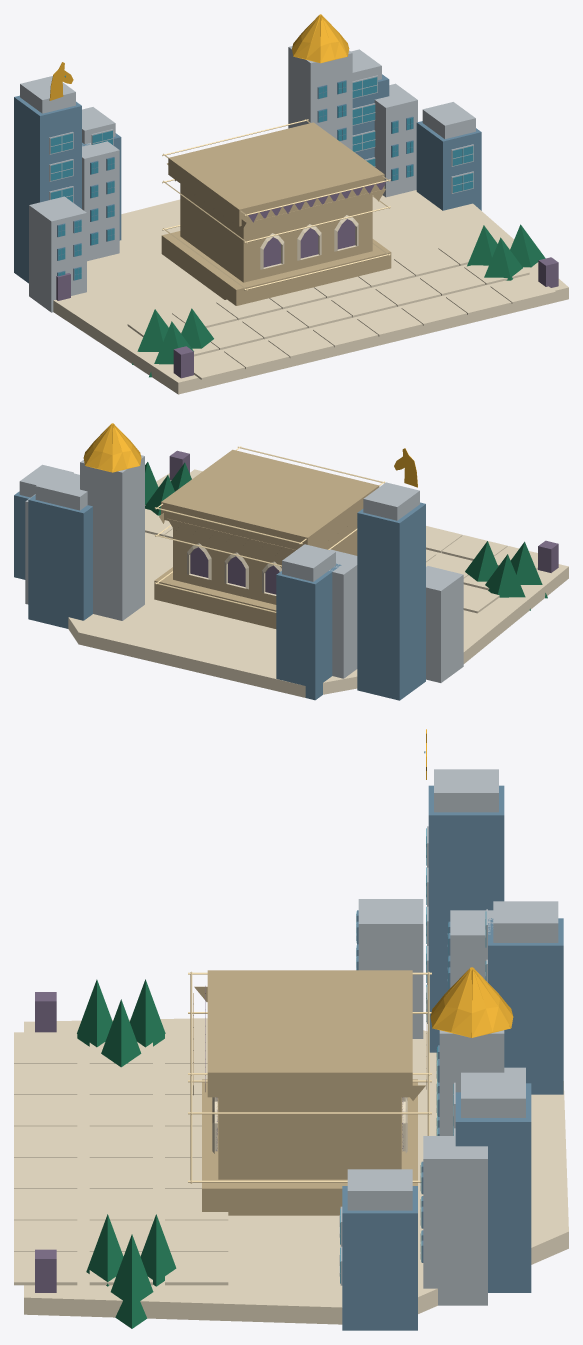
Rendered from decoration.glb.
The picture shows the model from 3 angles, top to bottom: view 1: azimuth 30°, elevation 25°; view 2: azimuth 150°, elevation 25°; view 3: azimuth 270°, elevation 25°; orthographic projection. The views are drawn at different scales.
Parts seen in each view (by area): view 1: 17_FriendshipStatue_StoneIslandAndPlinth, 17_R2C_Statue_StoneFriezeAndPaving, 17_R2C_Statue_SecondarySkyline, 17_FriendshipStatue_Skyline, 17_FriendshipStatue_Garden, 17_R3A_FriendshipStatue_PlinthPaperCourses; view 2: 17_FriendshipStatue_StoneIslandAndPlinth, 17_FriendshipStatue_Skyline, 17_R2C_Statue_SecondarySkyline, 17_R2C_Statue_StoneFriezeAndPaving, 17_FriendshipStatue_Garden, 17_R3A_FriendshipStatue_PlinthPaperCourses; view 3: 17_FriendshipStatue_StoneIslandAndPlinth, 17_FriendshipStatue_Skyline, 17_R2C_Statue_StoneFriezeAndPaving, 17_R2C_Statue_SecondarySkyline, 17_FriendshipStatue_Garden, 17_R3A_FriendshipStatue_PlinthPaperCourses.
Part boxes in pixels (bbox=[...]): 17_FriendshipStatue_StoneIslandAndPlinth: bbox=[53, 122, 568, 394]; 17_R2C_Statue_StoneFriezeAndPaving: bbox=[127, 182, 555, 379]; 17_R2C_Statue_SecondarySkyline: bbox=[29, 14, 417, 312]; 17_FriendshipStatue_Skyline: bbox=[14, 49, 481, 283]; 17_FriendshipStatue_Garden: bbox=[132, 224, 545, 377]; 17_R3A_FriendshipStatue_PlinthPaperCourses: bbox=[162, 119, 390, 290]; 17_FriendshipStatue_StoneIslandAndPlinth: bbox=[68, 449, 568, 697]; 17_FriendshipStatue_Skyline: bbox=[14, 448, 425, 700]; 17_R2C_Statue_SecondarySkyline: bbox=[25, 423, 463, 682]; 17_R2C_Statue_StoneFriezeAndPaving: bbox=[145, 469, 537, 613]; 17_FriendshipStatue_Garden: bbox=[145, 462, 547, 610]; 17_R3A_FriendshipStatue_PlinthPaperCourses: bbox=[154, 446, 385, 612]; 17_FriendshipStatue_StoneIslandAndPlinth: bbox=[24, 970, 568, 1324]; 17_FriendshipStatue_Skyline: bbox=[339, 729, 563, 1330]; 17_R2C_Statue_StoneFriezeAndPaving: bbox=[14, 986, 228, 1285]; 17_R2C_Statue_SecondarySkyline: bbox=[356, 899, 513, 1305]; 17_FriendshipStatue_Garden: bbox=[77, 979, 176, 1328]; 17_R3A_FriendshipStatue_PlinthPaperCourses: bbox=[188, 971, 431, 1183].
Size of the model in its own units: 1.31 by 0.6665 by 1.03.
